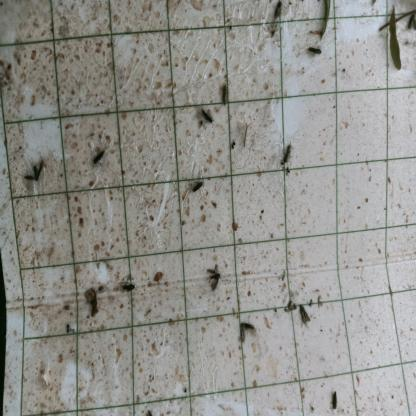prays_oleae: (26, 151, 50, 185), (277, 137, 295, 181), (114, 274, 140, 304), (216, 78, 235, 118), (323, 374, 343, 411), (202, 257, 226, 287), (295, 300, 310, 338), (86, 144, 109, 168), (190, 172, 206, 203), (196, 100, 214, 127), (302, 43, 332, 57), (238, 321, 250, 348), (273, 5, 286, 23), (239, 318, 256, 330)
